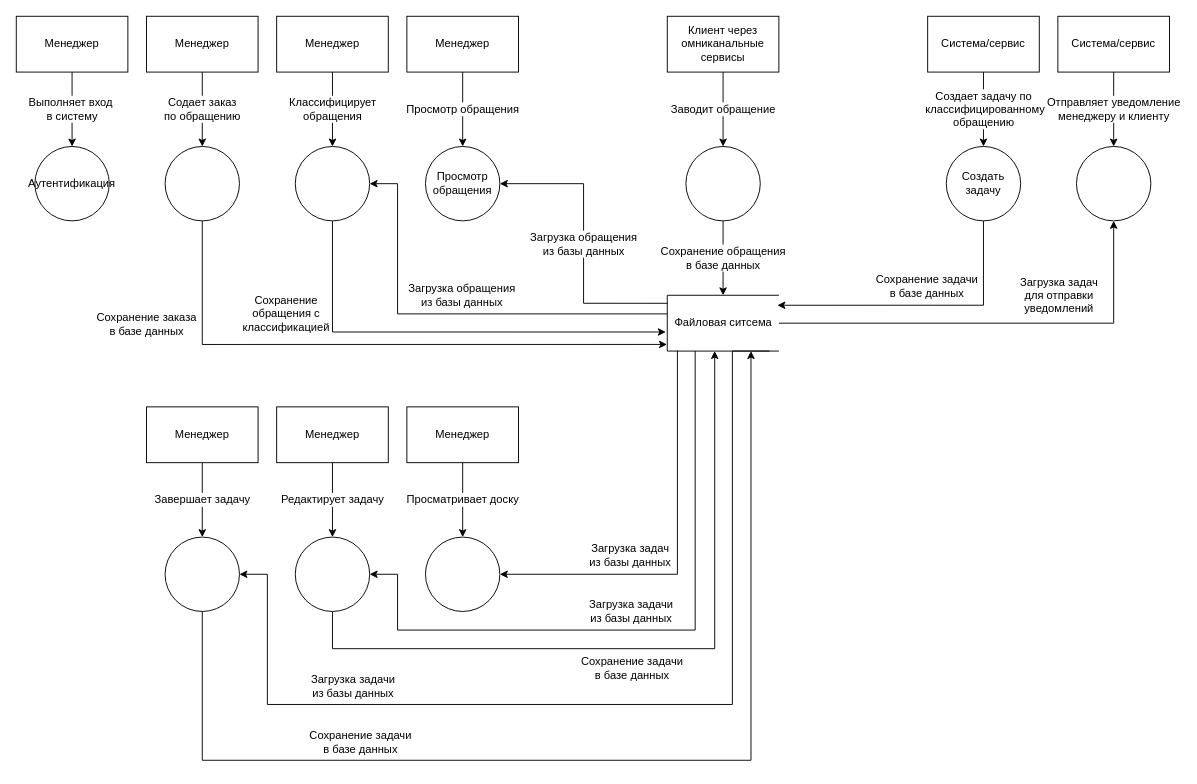
This 1197x784 diagram has some shape labels left out. The centre of each missing label's shape, as x and y in pixels:
"Завершить задачу" goes at (x=201, y=573).
"Завести обращение" goes at (x=722, y=183).
"Классификация обращений" goes at (x=332, y=183).
"Отправить уведомление медеджеру/клиенту" goes at (x=1113, y=183).
"Просмотр доски" goes at (x=462, y=573).
"Редактировать задачу" goes at (x=332, y=573).
"Создавать заказ по обращению" goes at (x=201, y=183).
